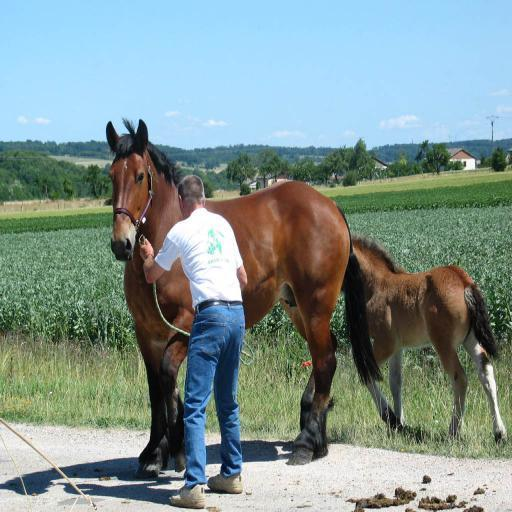horse: (104, 116, 384, 478), (352, 232, 508, 445)
